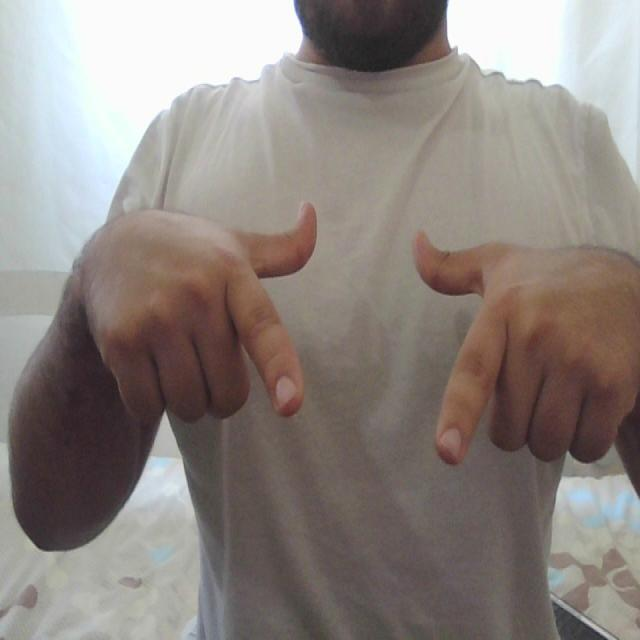Nerede: (213, 193, 523, 474)
